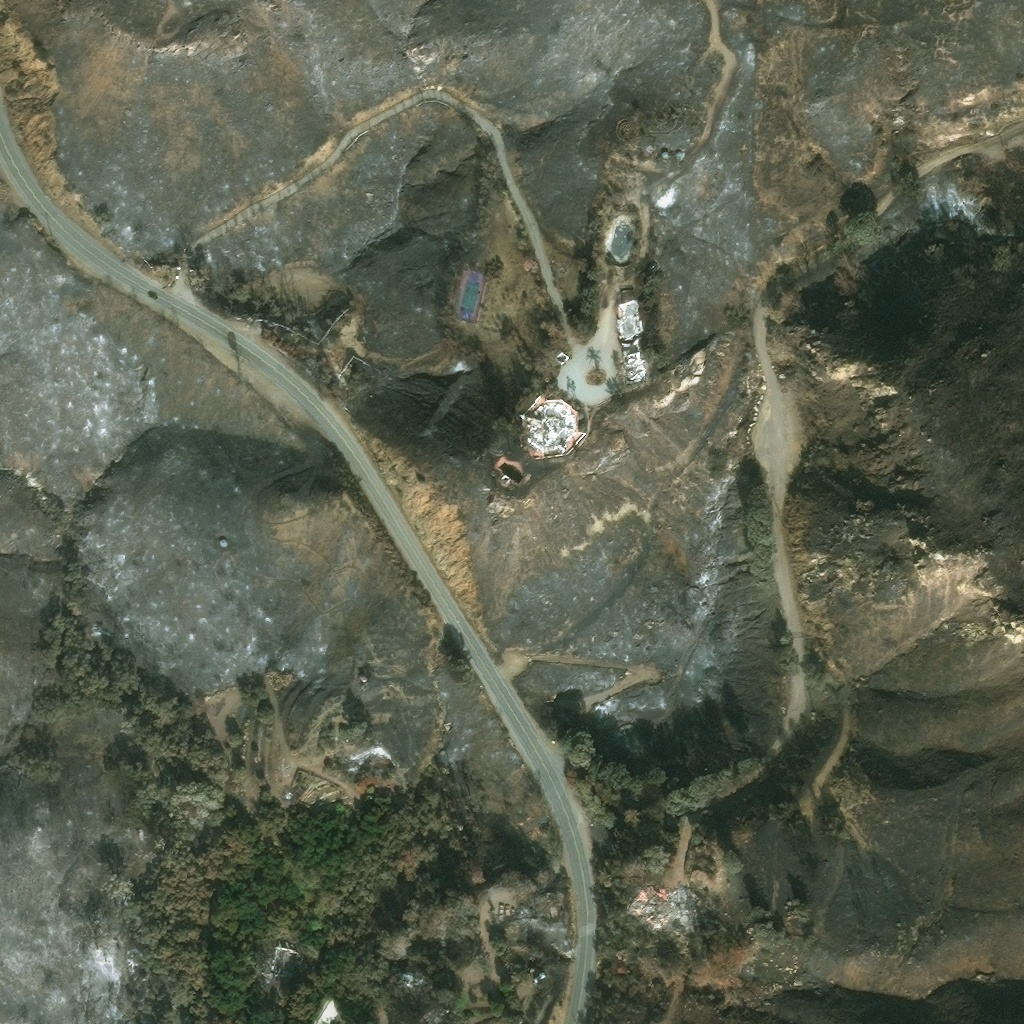0 no-damage: (311, 998, 344, 1023), (660, 151, 667, 159), (675, 151, 682, 157)
3 destroyed: (621, 873, 705, 930), (617, 299, 643, 385), (525, 401, 573, 447), (270, 944, 297, 978), (393, 965, 416, 987)
